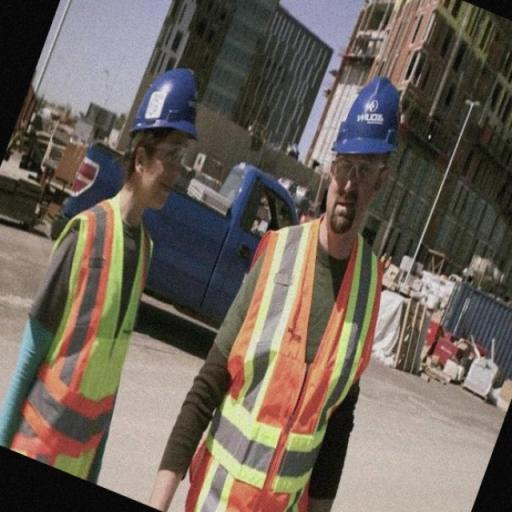Person: (163, 59, 435, 502), (5, 37, 227, 480)
goggles: (326, 157, 392, 183), (135, 134, 189, 165)
helmet: (330, 70, 412, 156), (128, 60, 206, 137)
vest: (169, 213, 394, 512), (0, 190, 167, 476)
